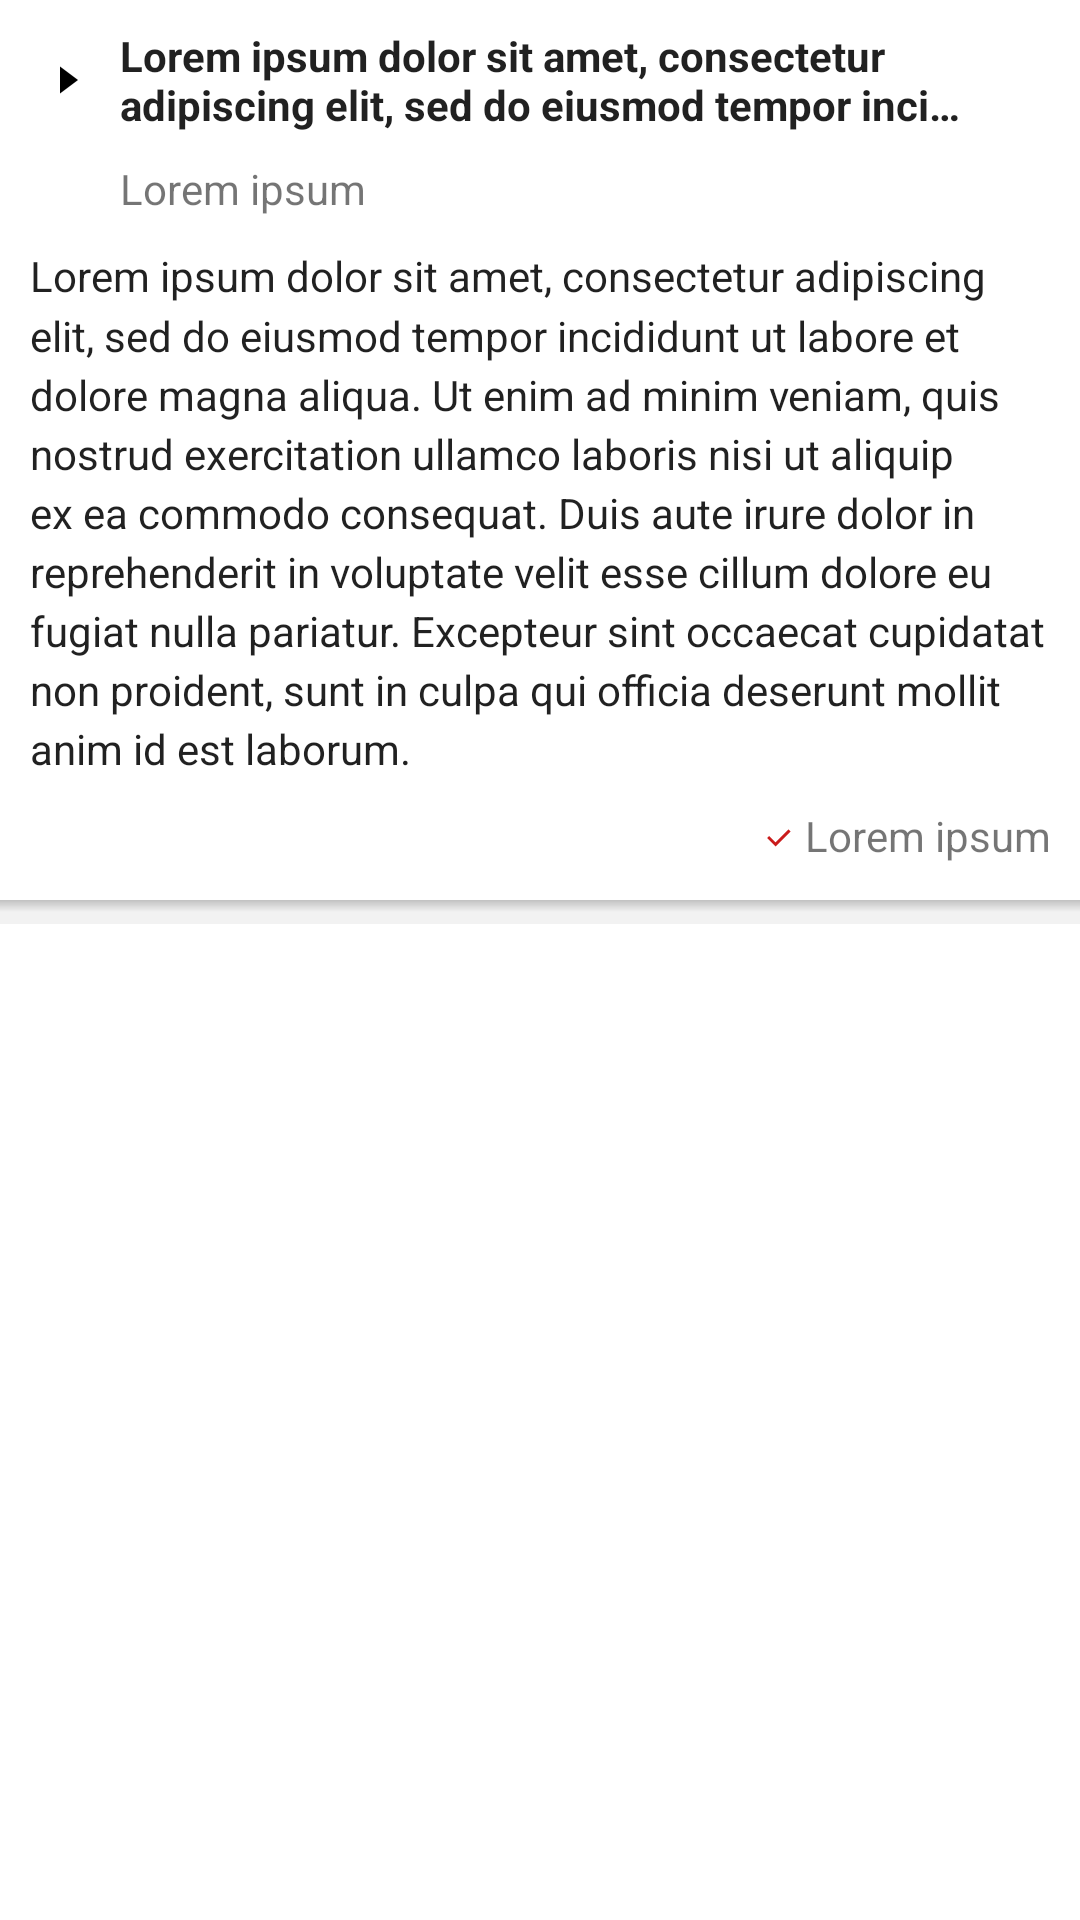

Named icons in this screenshot (1080px×1920px) and their centers, [x,y]:
record play: [69,80]
record played: [779,838]
